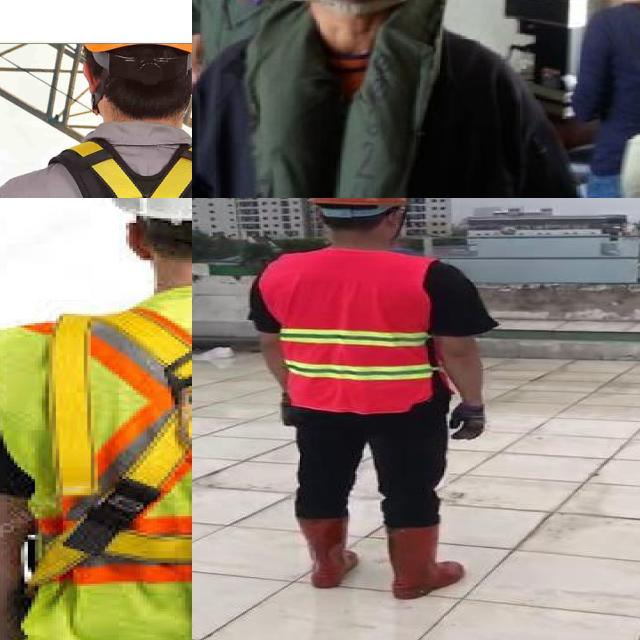Harness: (31, 308, 192, 588), (23, 135, 192, 198)
boots: (380, 523, 467, 601), (288, 518, 360, 588)
hand_glove: (449, 402, 488, 443)
head_helmet: (304, 198, 412, 208)
person: (240, 198, 507, 610), (192, 0, 587, 198)
vest: (261, 249, 440, 414)
